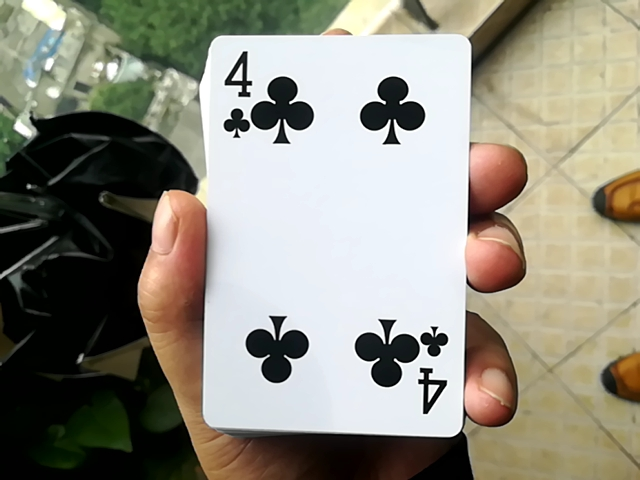mh 4: (180, 18, 476, 436)
